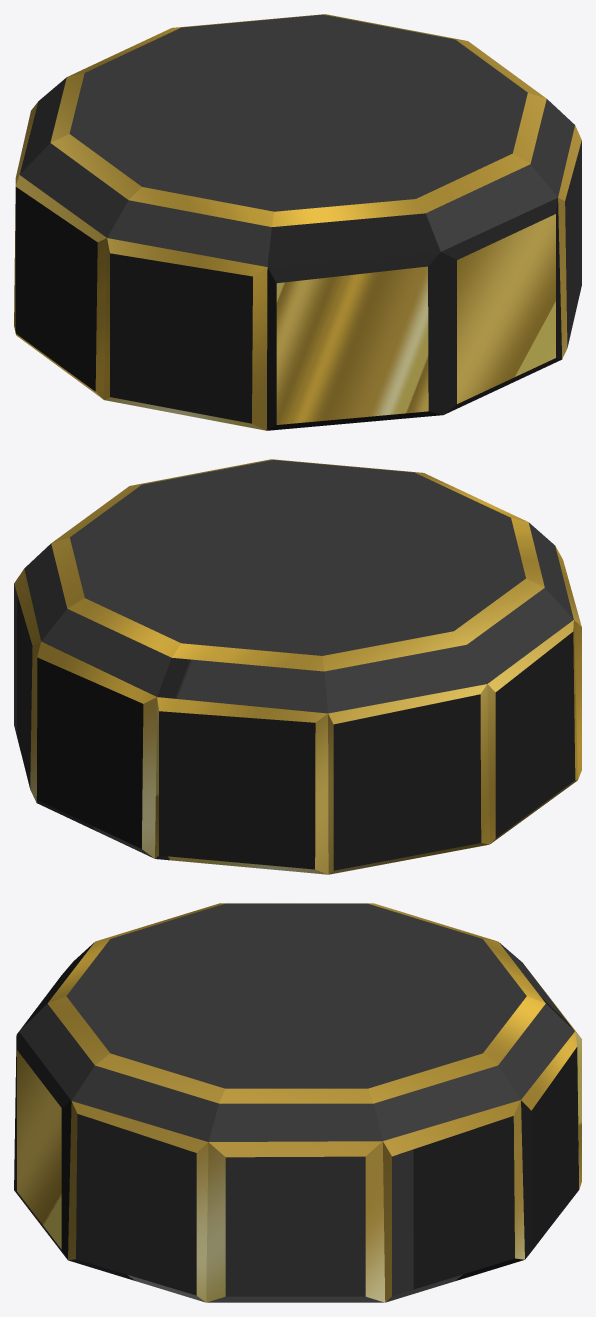
The model's file is BossChair.fbx.
The picture shows the model from 3 angles, top to bottom: view 1: azimuth 30°, elevation 25°; view 2: azimuth 150°, elevation 25°; view 3: azimuth 270°, elevation 25°; orthographic projection.
Visible parts, largest first — view 1: 円柱; view 2: 円柱; view 3: 円柱.
Boxes of the visible parts, x1,y1,x2,y2 form: 円柱: (14,14,581,430); 円柱: (14,459,581,874); 円柱: (14,903,581,1302).
Bounding box in the file's own units: 9470 × 3705 × 9840.
Materials: 1 (1 with a texture image).
